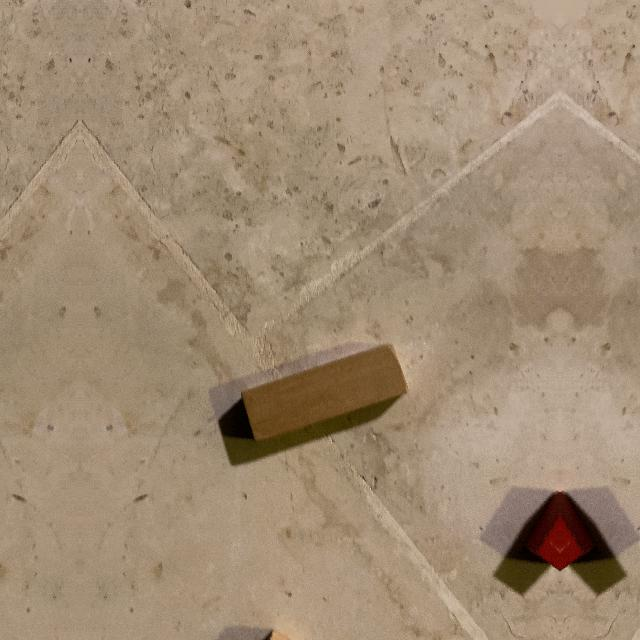jenga: (244, 347, 407, 442)
red block: (526, 491, 560, 571), (560, 491, 594, 571)
